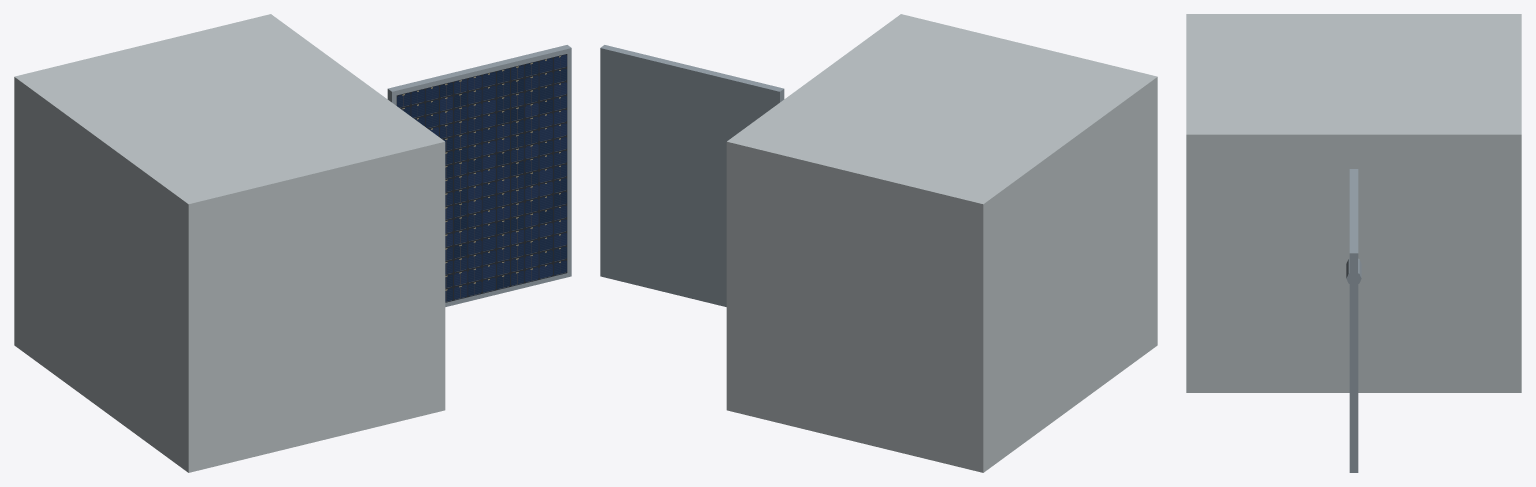
The model's file is ref-enmap-52159.glb.
3 views of the same model, side by side, from view 1: azimuth 30°, elevation 25°; view 2: azimuth 150°, elevation 25°; view 3: azimuth 270°, elevation 25° (orthographic). The views are drawn at different scales.
Visible parts, largest first — view 1: Spacecraft body, Photovoltaic laminates, Array frame; view 2: Spacecraft body, Array frame; view 3: Spacecraft body, Array frame.
Part boxes in pixels (<box>): Spacecraft body: <box>14,14,445,472</box>; Photovoltaic laminates: <box>396,54,567,302</box>; Array frame: <box>387,45,571,306</box>; Spacecraft body: <box>726,14,1157,472</box>; Array frame: <box>600,45,784,306</box>; Spacecraft body: <box>1186,14,1521,392</box>; Array frame: <box>1349,169,1358,472</box>.
Size of the model in its own units: 3.1 by 1.7 by 2.
3 materials, 1 textured.
